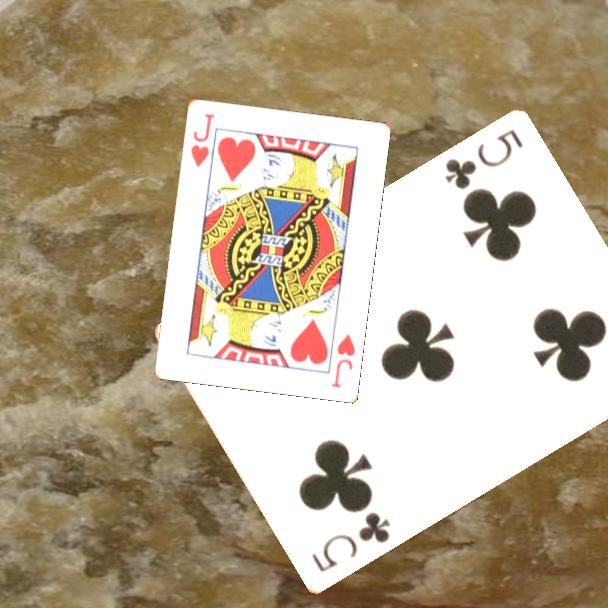c05: (441, 126, 526, 194), (308, 509, 393, 576)
h11: (327, 330, 358, 390), (187, 110, 217, 170)
